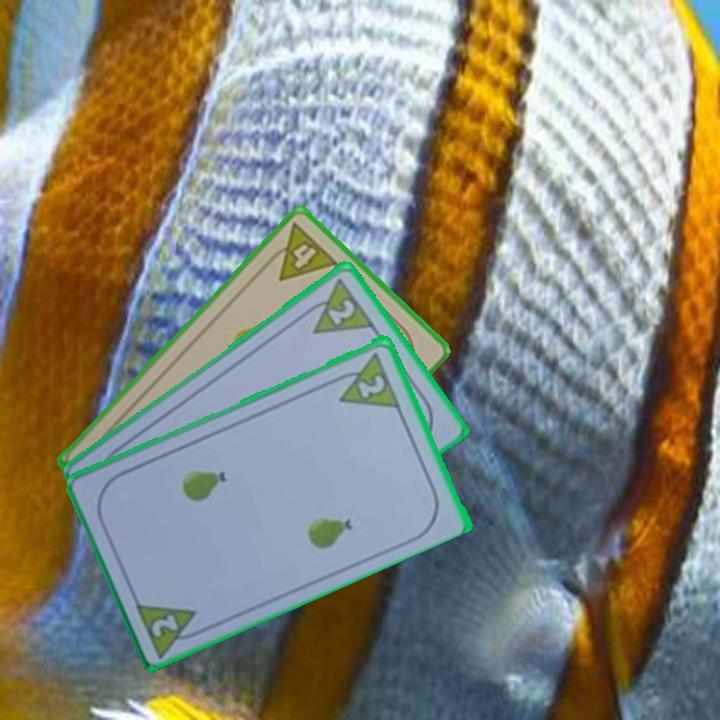2p: (298, 273, 378, 337), (328, 347, 402, 411), (147, 610, 182, 640)
4p: (260, 219, 341, 284)
